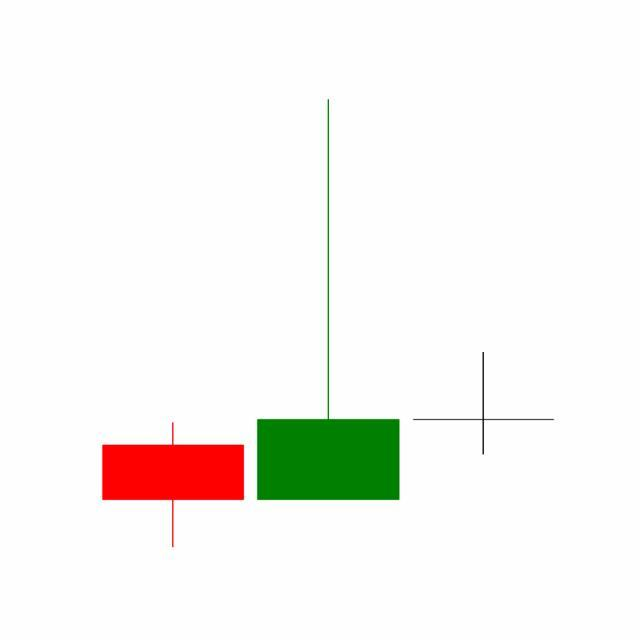Spinning Top: (406, 351, 562, 457)
